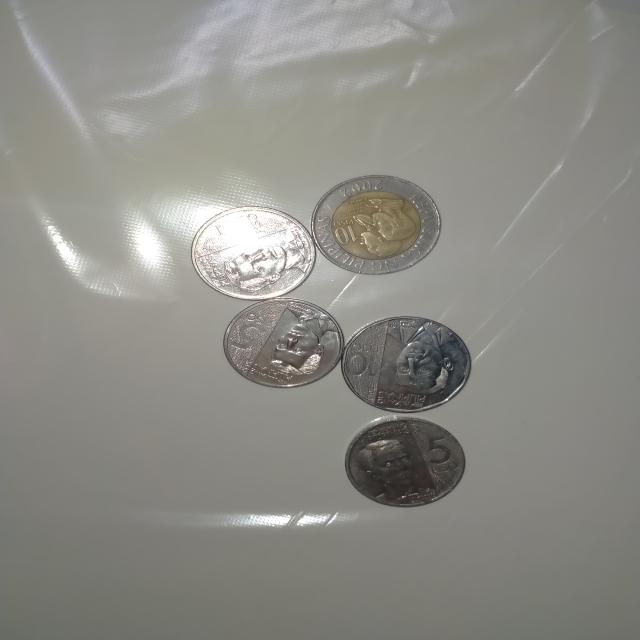10_New_Front: (344, 323, 454, 403)
10_Old_Front: (316, 175, 437, 275)
5_New_Front: (361, 423, 462, 498)
